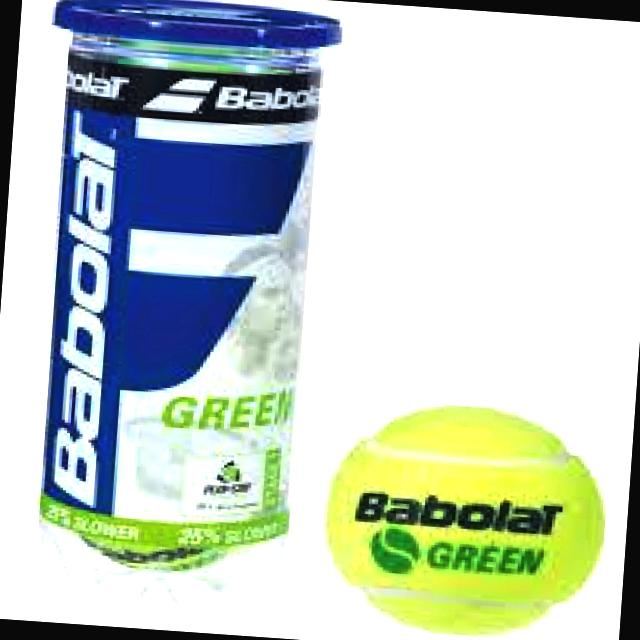ball: (301, 391, 630, 640)
